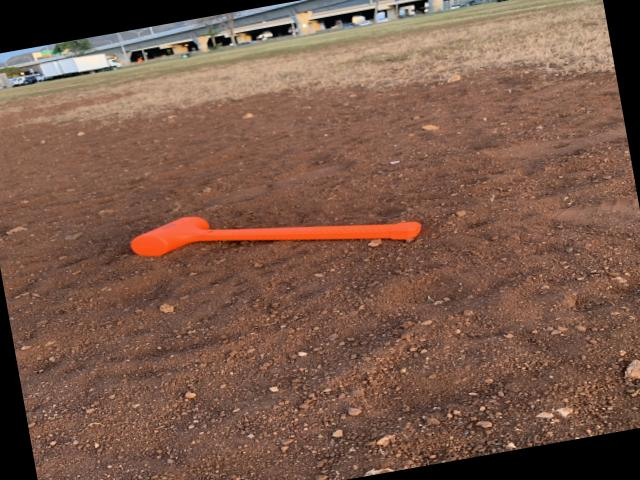hammer: (126, 176, 421, 288)
